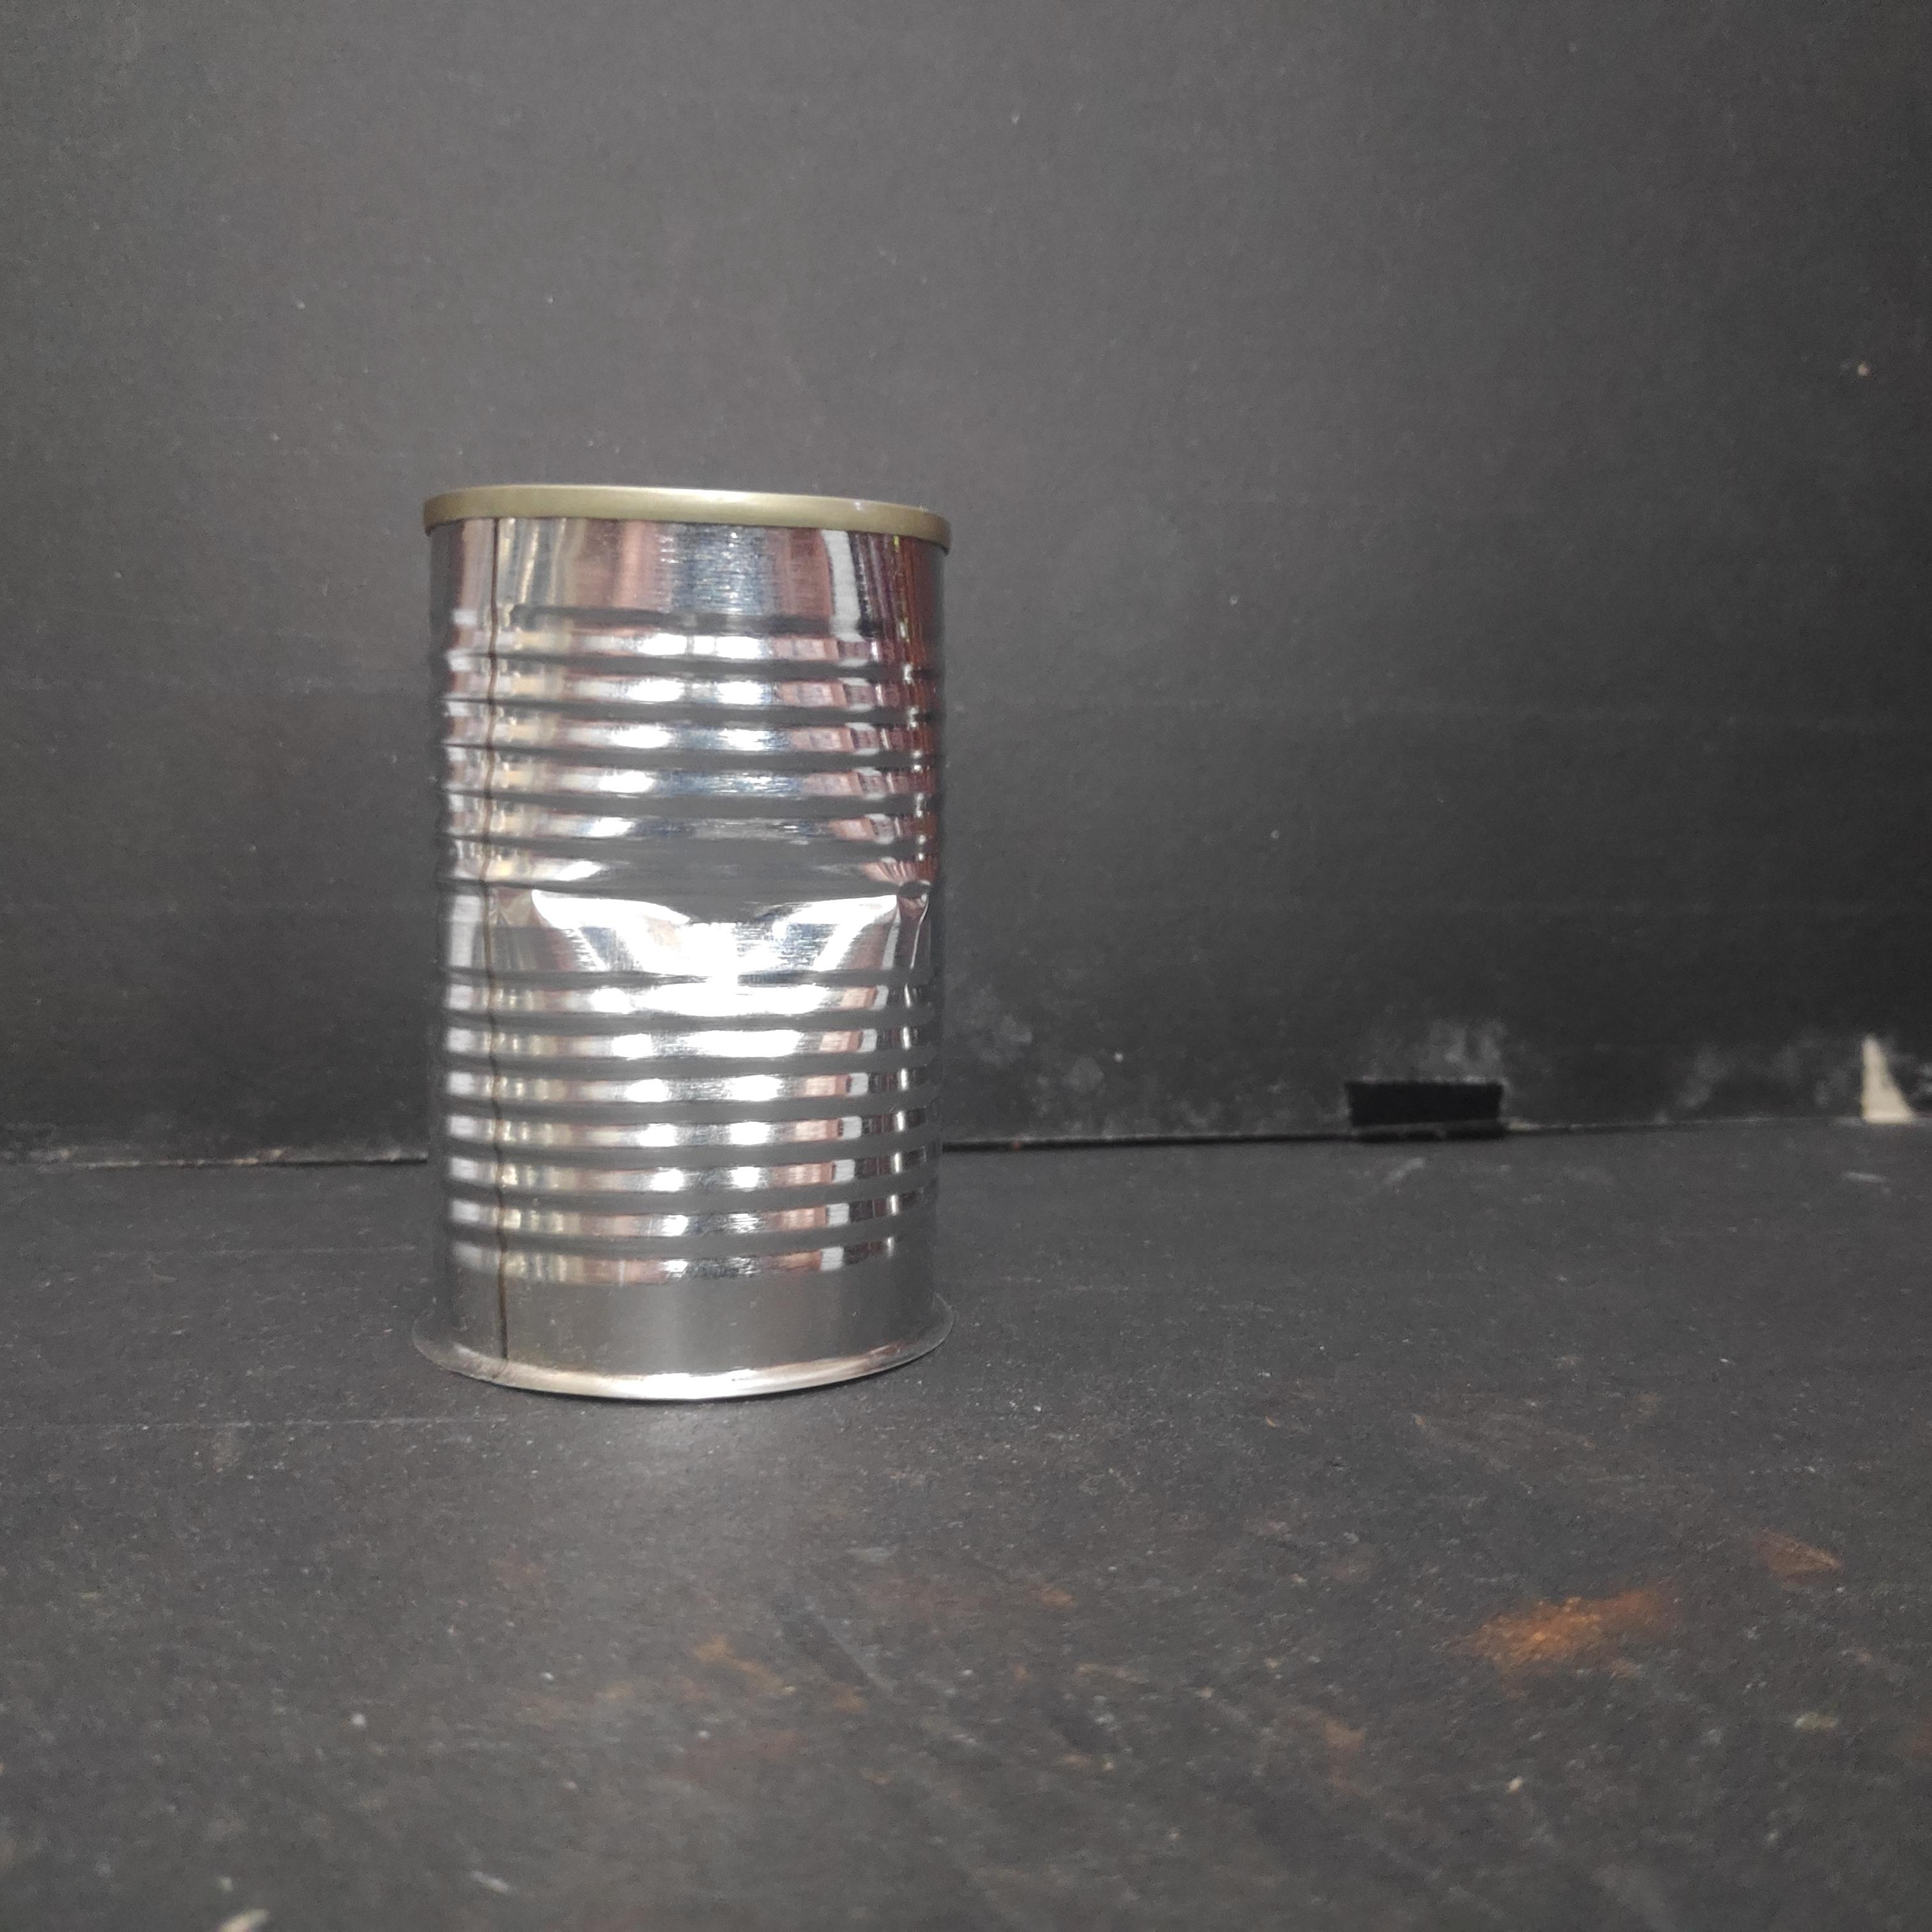Minor Defect: (407, 460, 968, 1422)
